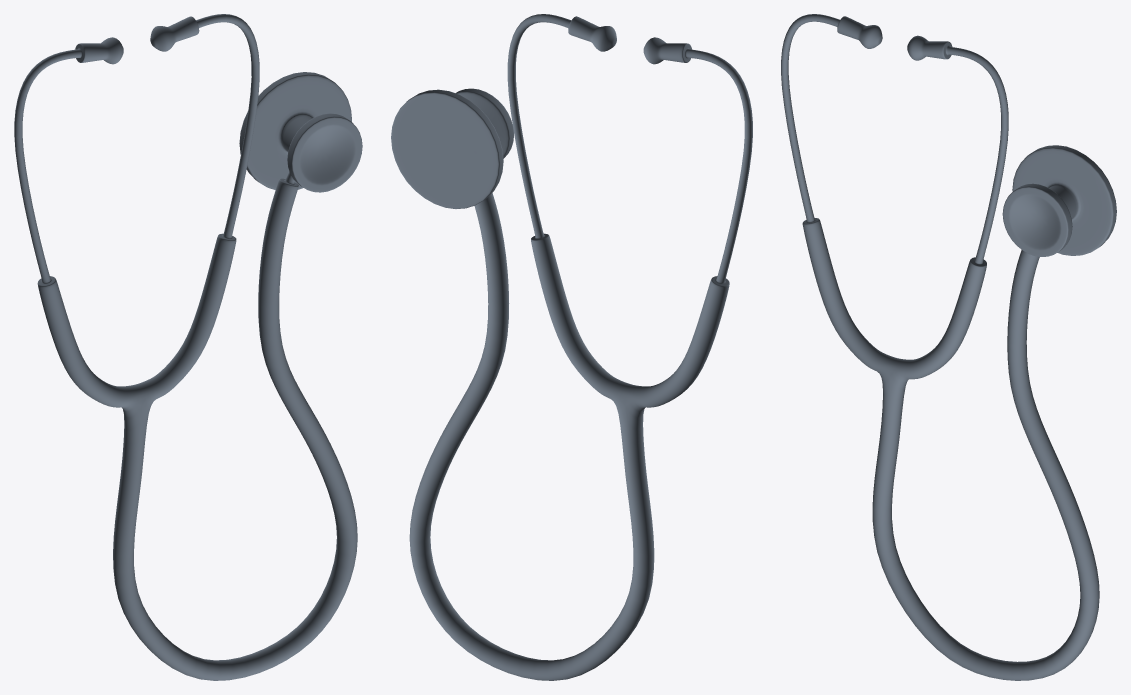
The model's file is stethoscope.glb.
3 renders of one model, left to right at view 1: azimuth 30°, elevation 25°; view 2: azimuth 150°, elevation 25°; view 3: azimuth 330°, elevation 25°, orthographic. The views are drawn at different scales.
Parts seen in each view (by area): view 1: 16958_stethoscope_v1; view 2: 16958_stethoscope_v1; view 3: 16958_stethoscope_v1.
Part boxes in pixels (x1,y1,x2,y2): 16958_stethoscope_v1: (14,14,362,680); 16958_stethoscope_v1: (391,14,752,680); 16958_stethoscope_v1: (781,14,1116,680).
Size of the model in its own units: 19.01 by 35.13 by 3.26.
